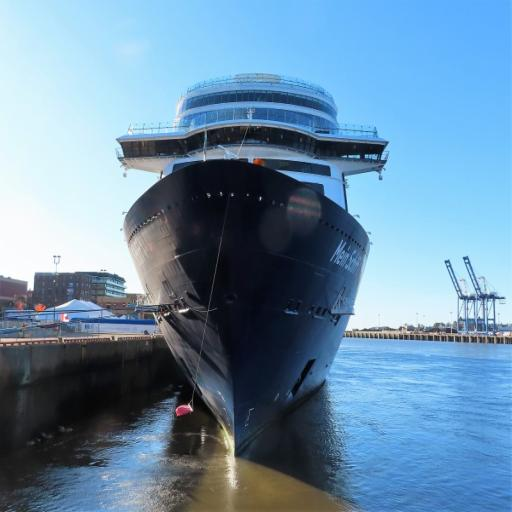cruises: (106, 61, 401, 469)
